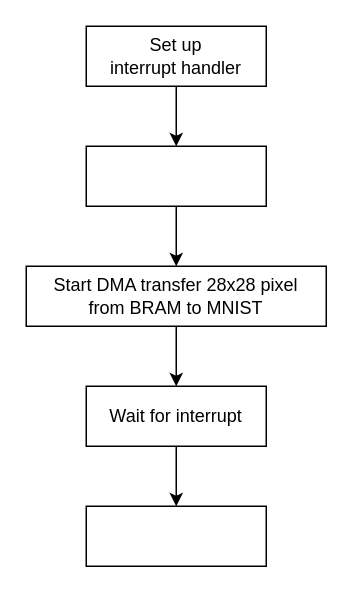
The diagram is 353 pixels wide and 593 high, and some of its shapes have lost their labels. Each missing label, with the centre of its shape:
"Read result from register 0x08" belongs at [175,535].
"Set up DMA device MM2S" belongs at [175,175].
